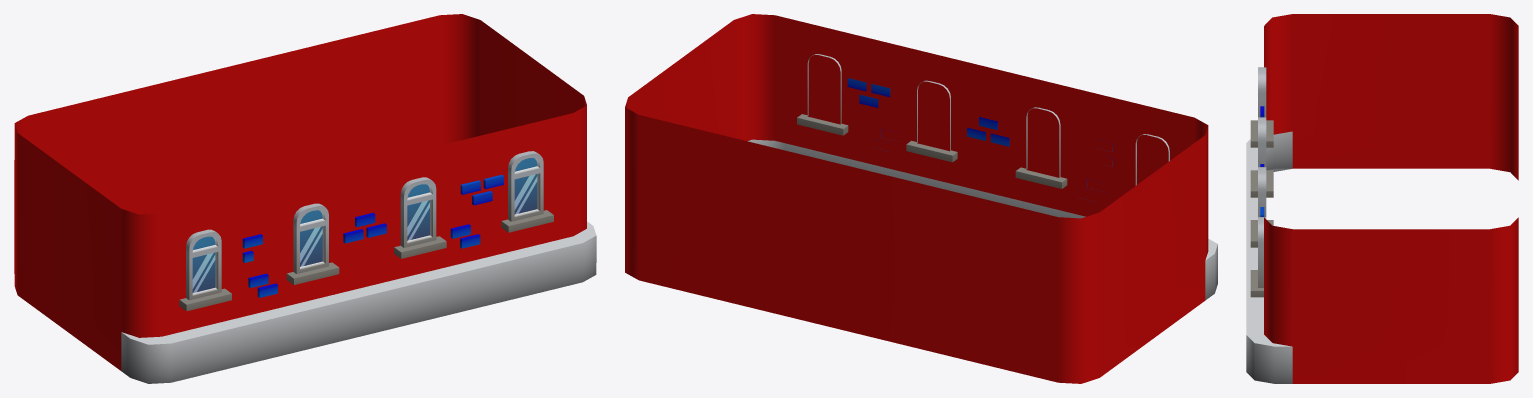
Rendered from House 2 Floor.fbx.
The picture shows the model from 3 angles, left to right: view 1: azimuth 30°, elevation 25°; view 2: azimuth 150°, elevation 25°; view 3: azimuth 270°, elevation 25°; orthographic projection. The views are drawn at different scales.
Visible parts, largest first — view 1: Cube.022; view 2: Cube.022; view 3: Cube.022.
Part boxes in pixels (left/top/right/bottom): Cube.022: left=14, top=14, right=596, bottom=383; Cube.022: left=625, top=14, right=1217, bottom=383; Cube.022: left=1246, top=14, right=1518, bottom=383.
Bounding box in the file's own units: 200 × 67.11 × 107.
